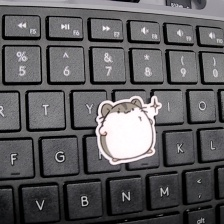mouse: (95, 96, 164, 165)
